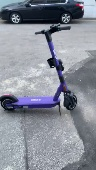beam: (1, 24, 79, 112)
